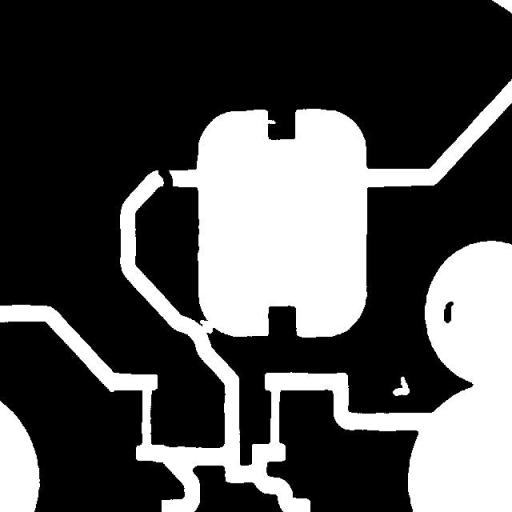copper: (436, 294, 461, 330)
mousebite: (257, 112, 283, 131)
open: (192, 312, 222, 341)
pin-hole: (385, 369, 417, 403)
short: (150, 160, 180, 198)
